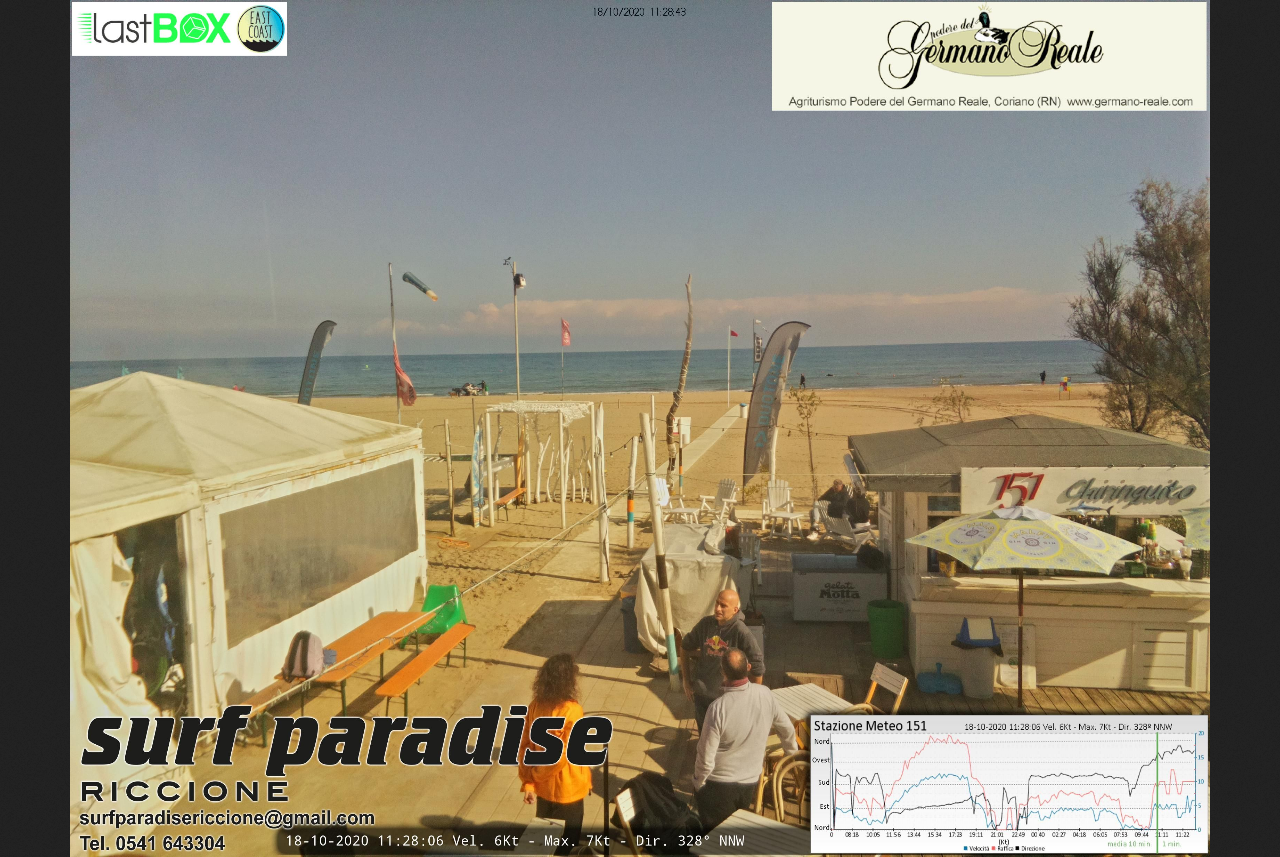maybe: (383, 327, 419, 408)
